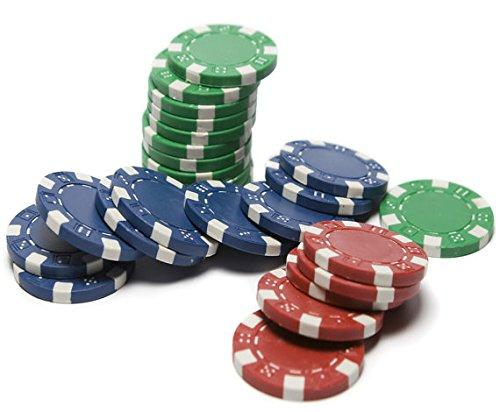chip-blue: (36, 172, 142, 261), (111, 167, 216, 256), (97, 177, 202, 266), (185, 181, 292, 255), (8, 205, 104, 279), (241, 182, 348, 241), (280, 141, 388, 199), (266, 167, 373, 215), (13, 263, 134, 303)
chip-green: (380, 180, 494, 257), (168, 24, 277, 87), (150, 50, 259, 104), (143, 113, 251, 159), (148, 79, 257, 119), (143, 149, 251, 185), (144, 113, 255, 145), (143, 141, 251, 172), (148, 102, 256, 131)
chip-red: (233, 312, 363, 401), (257, 269, 382, 340), (287, 244, 420, 310), (304, 221, 428, 287)
